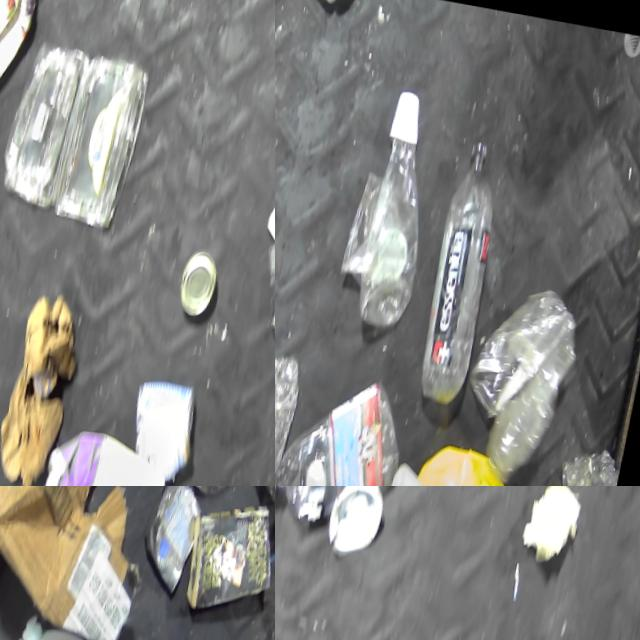can: (126, 376, 209, 486), (137, 486, 214, 596)
milk_jug: (40, 423, 179, 486), (340, 451, 446, 486)
non_white_jug: (387, 436, 536, 486)
plastic_bottle: (411, 135, 517, 407), (353, 132, 446, 334), (275, 361, 419, 486), (275, 486, 420, 550), (275, 346, 311, 486)
